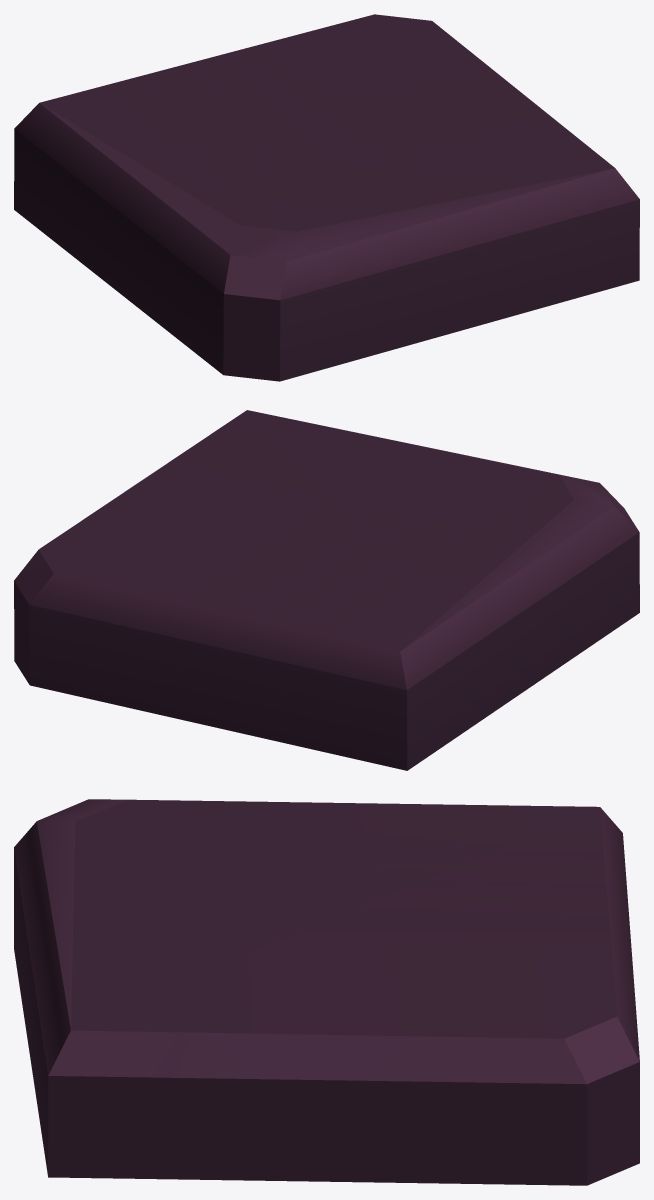
File: floor_stone_alt_2.fbx
3 views of the same model, one above another, from view 1: azimuth 30°, elevation 25°; view 2: azimuth 150°, elevation 25°; view 3: azimuth 270°, elevation 25° (orthographic). The views are drawn at different scales.
Visible parts, largest first — view 1: floor_stone_alt_2; view 2: floor_stone_alt_2; view 3: floor_stone_alt_2.
Part boxes in pixels (left/top/right/bottom): floor_stone_alt_2: left=14, top=14, right=639, bottom=381; floor_stone_alt_2: left=14, top=410, right=639, bottom=770; floor_stone_alt_2: left=14, top=799, right=639, bottom=1185.
Size of the model in its own units: 122 by 33.56 by 125.
